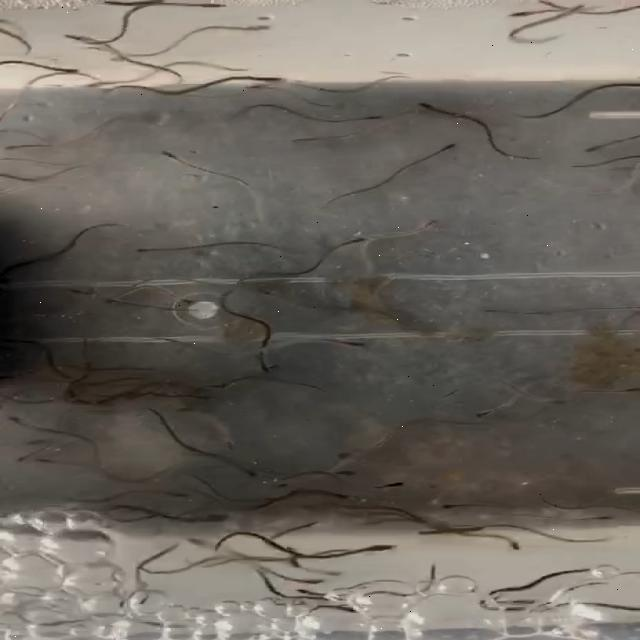active_glass_eel: (134, 228, 186, 254), (245, 354, 295, 374), (259, 578, 311, 596), (408, 209, 454, 229), (423, 140, 480, 156), (144, 293, 204, 307), (360, 539, 402, 559), (468, 404, 510, 422), (292, 568, 338, 584), (0, 138, 43, 155), (419, 98, 463, 114), (338, 230, 376, 248), (371, 472, 406, 491), (243, 71, 290, 85), (498, 532, 534, 550), (336, 332, 370, 351), (154, 150, 194, 166), (19, 408, 51, 428), (15, 449, 52, 466), (348, 110, 383, 127), (437, 498, 482, 511), (57, 34, 93, 50), (601, 381, 629, 401), (488, 89, 520, 106), (157, 482, 191, 498), (322, 491, 362, 504), (260, 80, 302, 92), (584, 512, 616, 527), (198, 508, 228, 524), (322, 468, 369, 478), (238, 462, 260, 482), (52, 61, 80, 76), (514, 6, 556, 16), (7, 438, 30, 454), (192, 0, 232, 9), (433, 389, 466, 399), (266, 288, 289, 302), (521, 392, 553, 402), (580, 143, 609, 153), (482, 308, 512, 316), (103, 0, 132, 8)
